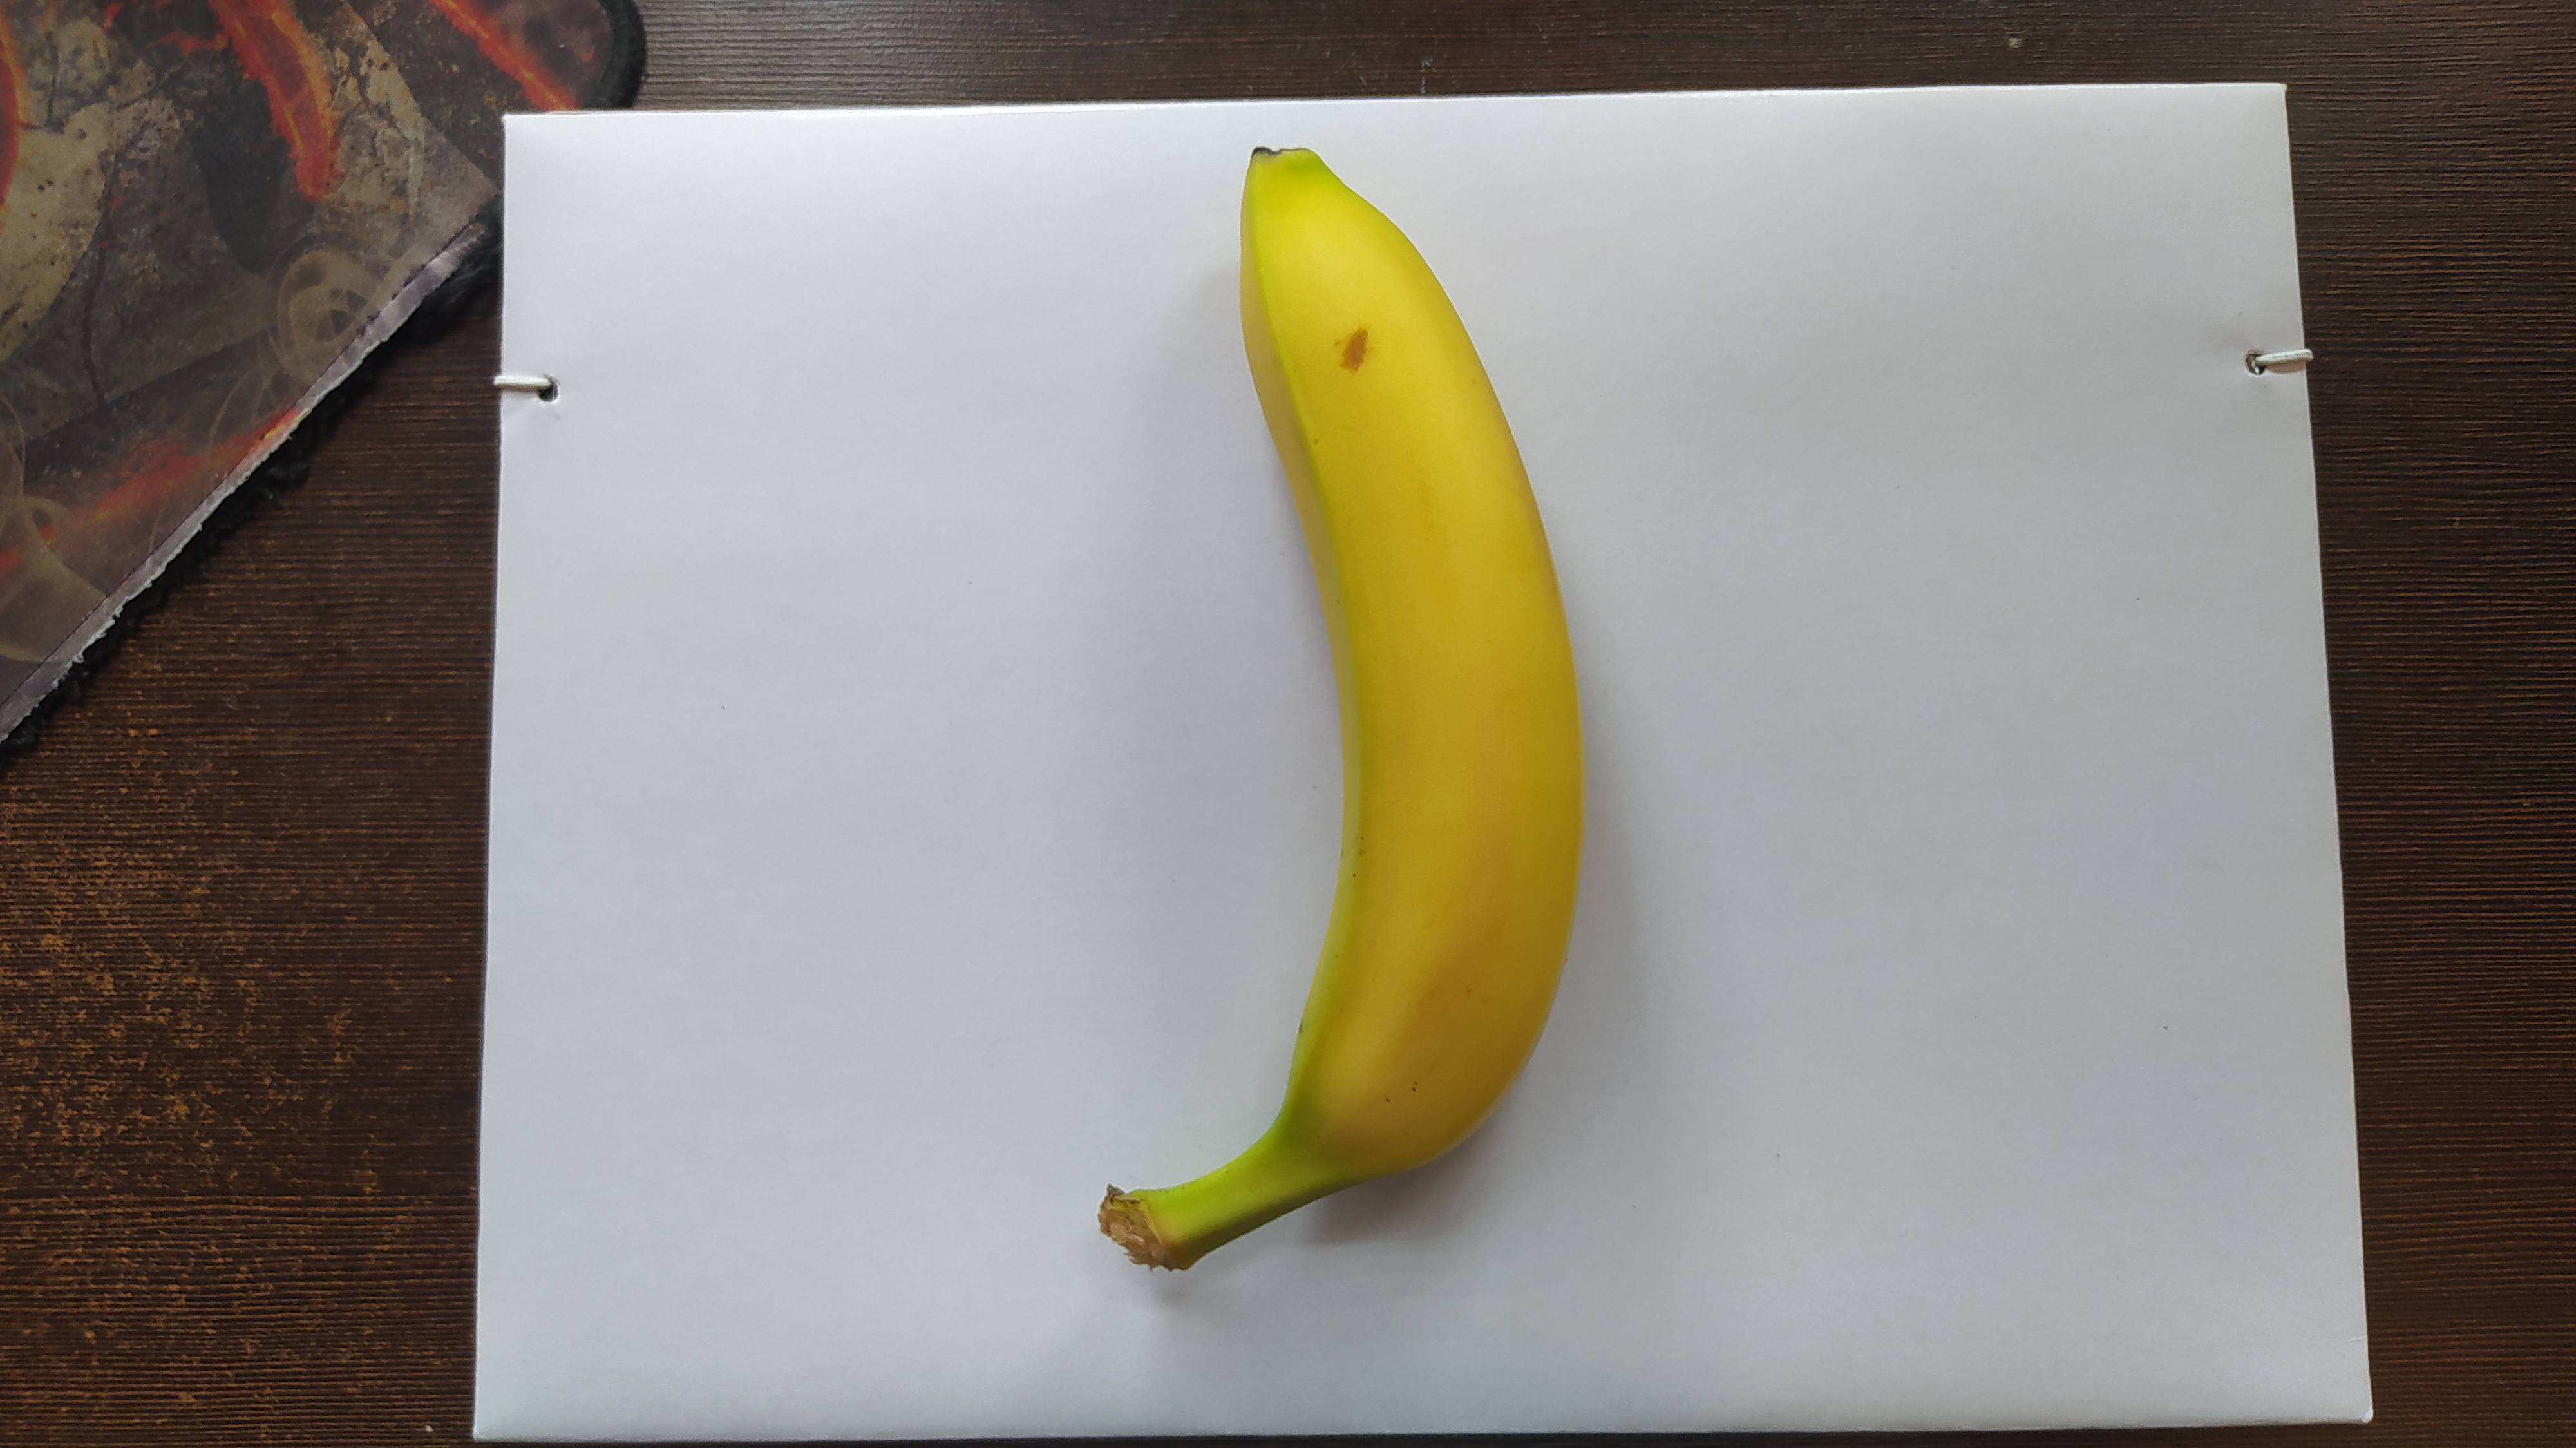banana: (1095, 140, 1585, 1271)
